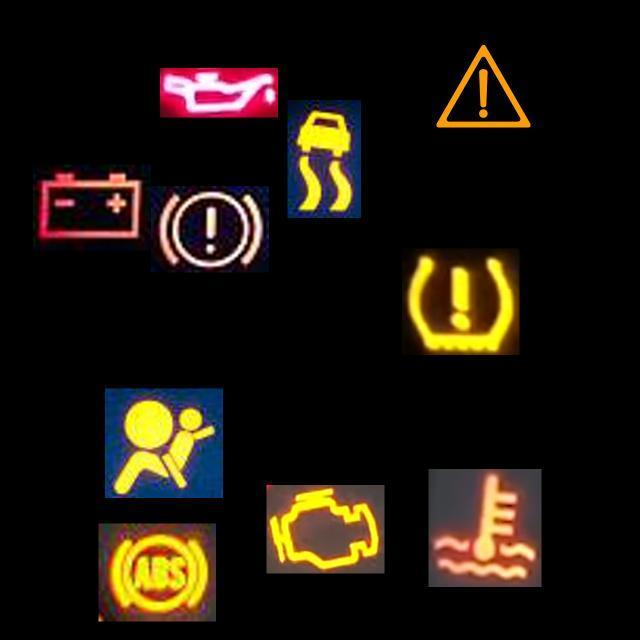Central Warning lamp: (424, 28, 542, 146)
Engine cooling system: (428, 469, 542, 587)
